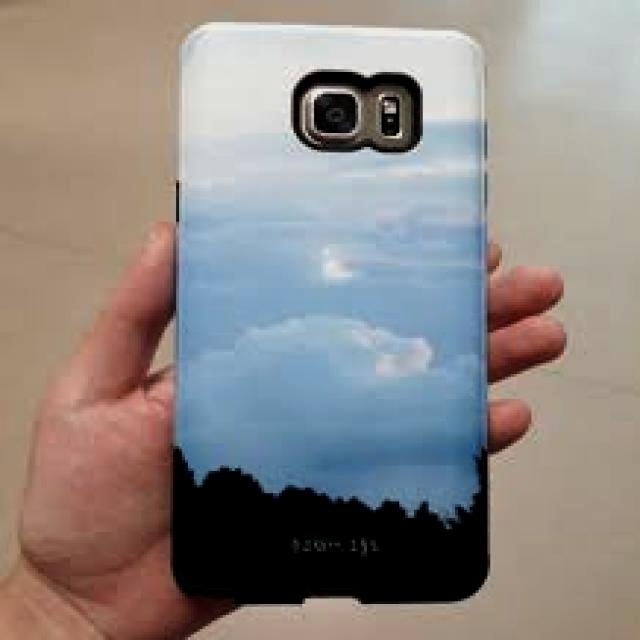lens: (289, 68, 426, 156)
phone: (176, 18, 490, 606)
